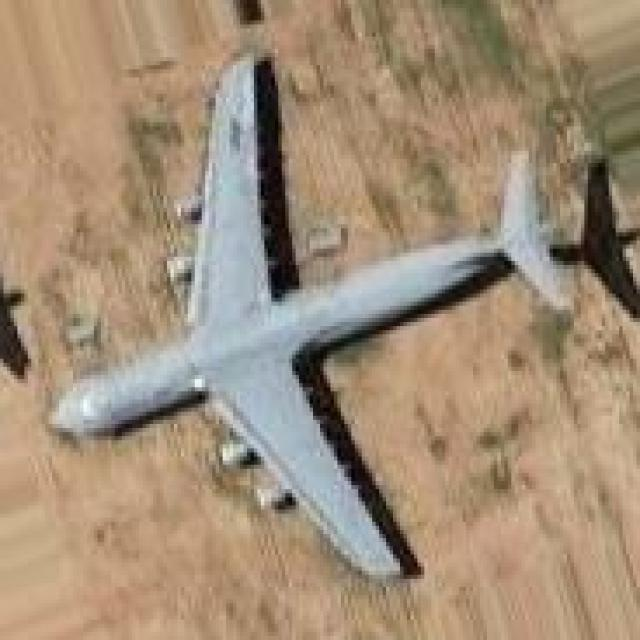C-5_TopDown: (40, 46, 640, 588)
